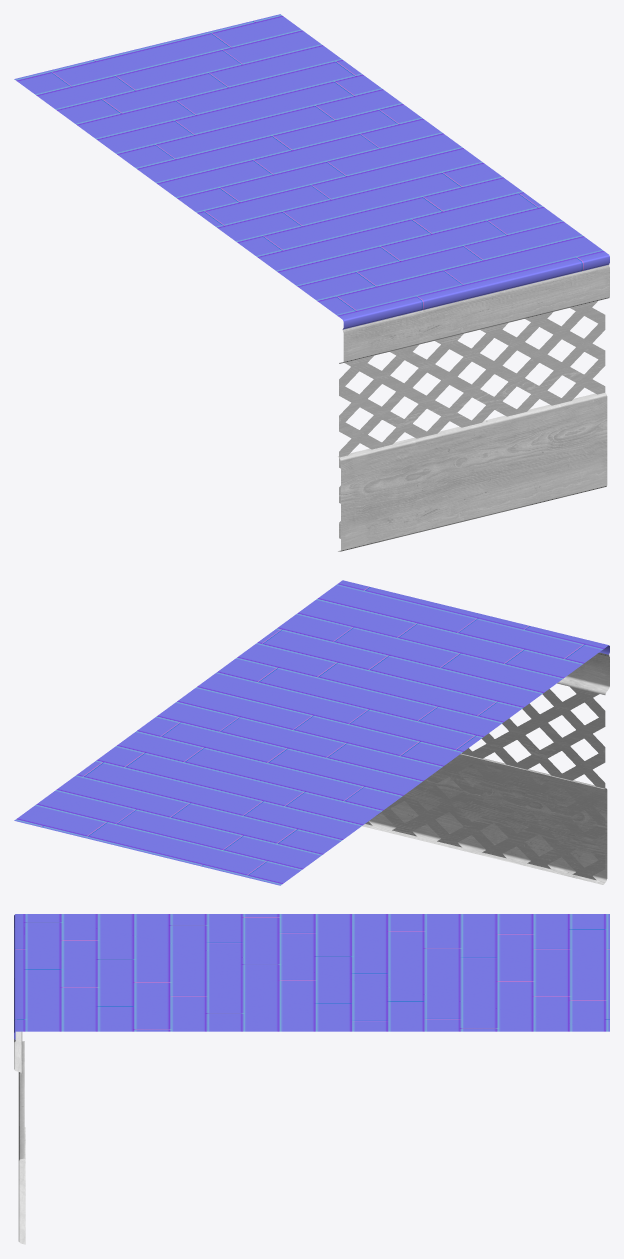
3 renders of one model, top to bottom at view 1: azimuth 30°, elevation 25°; view 2: azimuth 150°, elevation 25°; view 3: azimuth 270°, elevation 25°, orthographic. The views are drawn at different scales.
Visible parts, largest first — view 1: Base_B3_200; view 2: Base_B3_200; view 3: Base_B3_200.
Boxes of the visible parts, left/top/right/bottom form: Base_B3_200: left=14, top=14, right=609, bottom=551; Base_B3_200: left=14, top=580, right=609, bottom=885; Base_B3_200: left=14, top=914, right=609, bottom=1244.
Size of the model in its own units: 140 by 118 by 300.
